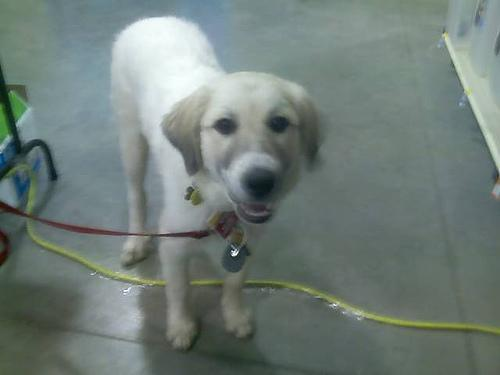Great_Pyrenees: (106, 15, 331, 350)
